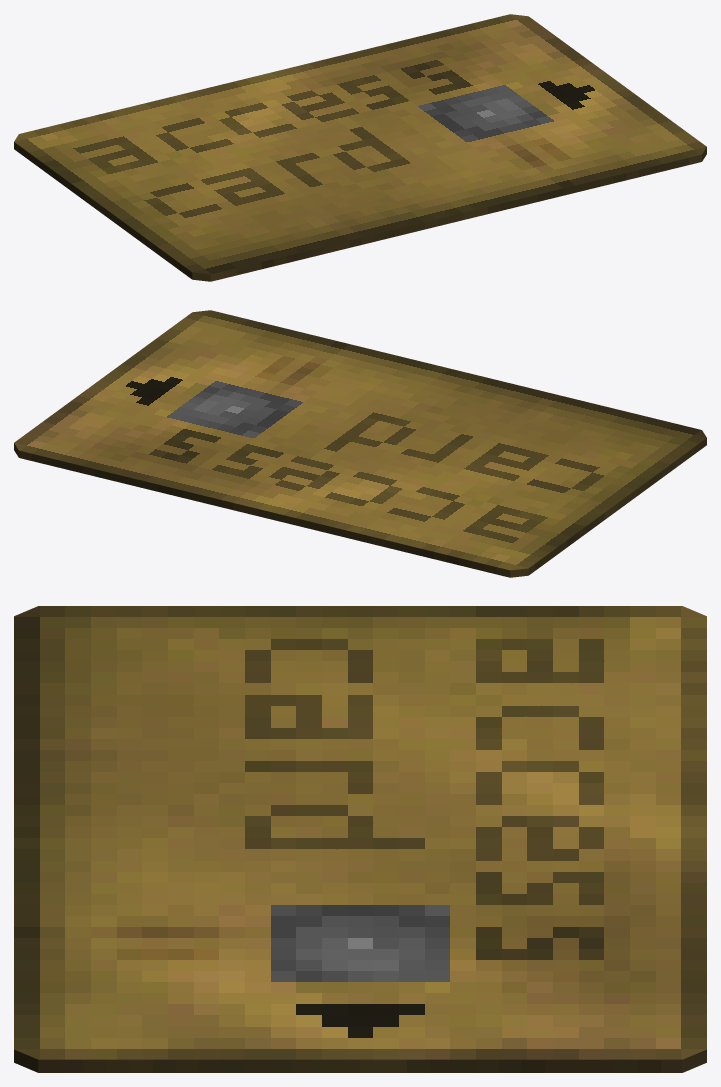
The model's file is keycard_1_authorization_level_2.glb.
3 views of the same model, one above another, from view 1: azimuth 30°, elevation 25°; view 2: azimuth 150°, elevation 25°; view 3: azimuth 270°, elevation 25° (orthographic). The views are drawn at different scales.
Parts seen in each view (by area): view 1: keycard_1_authorization_level_2; view 2: keycard_1_authorization_level_2; view 3: keycard_1_authorization_level_2.
Part boxes in pixels (x1,y1,x2,y2): keycard_1_authorization_level_2: [14, 14, 706, 281]; keycard_1_authorization_level_2: [14, 310, 706, 577]; keycard_1_authorization_level_2: [14, 606, 706, 1072].
Bounding box in the file's own units: 0.132 × 0.0018 × 0.0852.
1 material, 1 textured.
